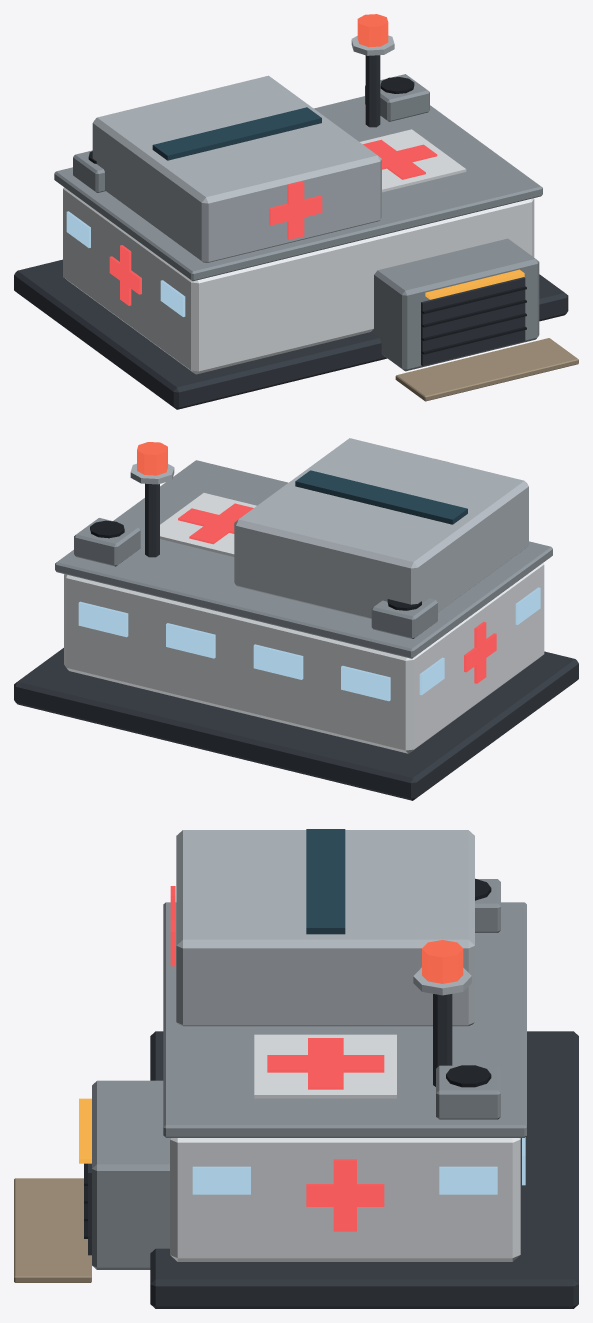
The model's file is exo-medbay.glb.
The picture shows the model from 3 angles, top to bottom: view 1: azimuth 30°, elevation 25°; view 2: azimuth 150°, elevation 25°; view 3: azimuth 270°, elevation 25°; orthographic projection. The views are drawn at different scales.
Visible parts, largest first — view 1: body, charge; view 2: body, charge; view 3: body, charge.
Boxes of the visible parts, x1,y1,x2,y2 form: body: [14, 35, 578, 409]; charge: [357, 14, 388, 47]; body: [14, 438, 578, 800]; charge: [137, 442, 167, 475]; body: [14, 829, 578, 1308]; charge: [422, 940, 463, 983].
Size of the model in its own units: 9.2 by 5.22 by 8.7.
